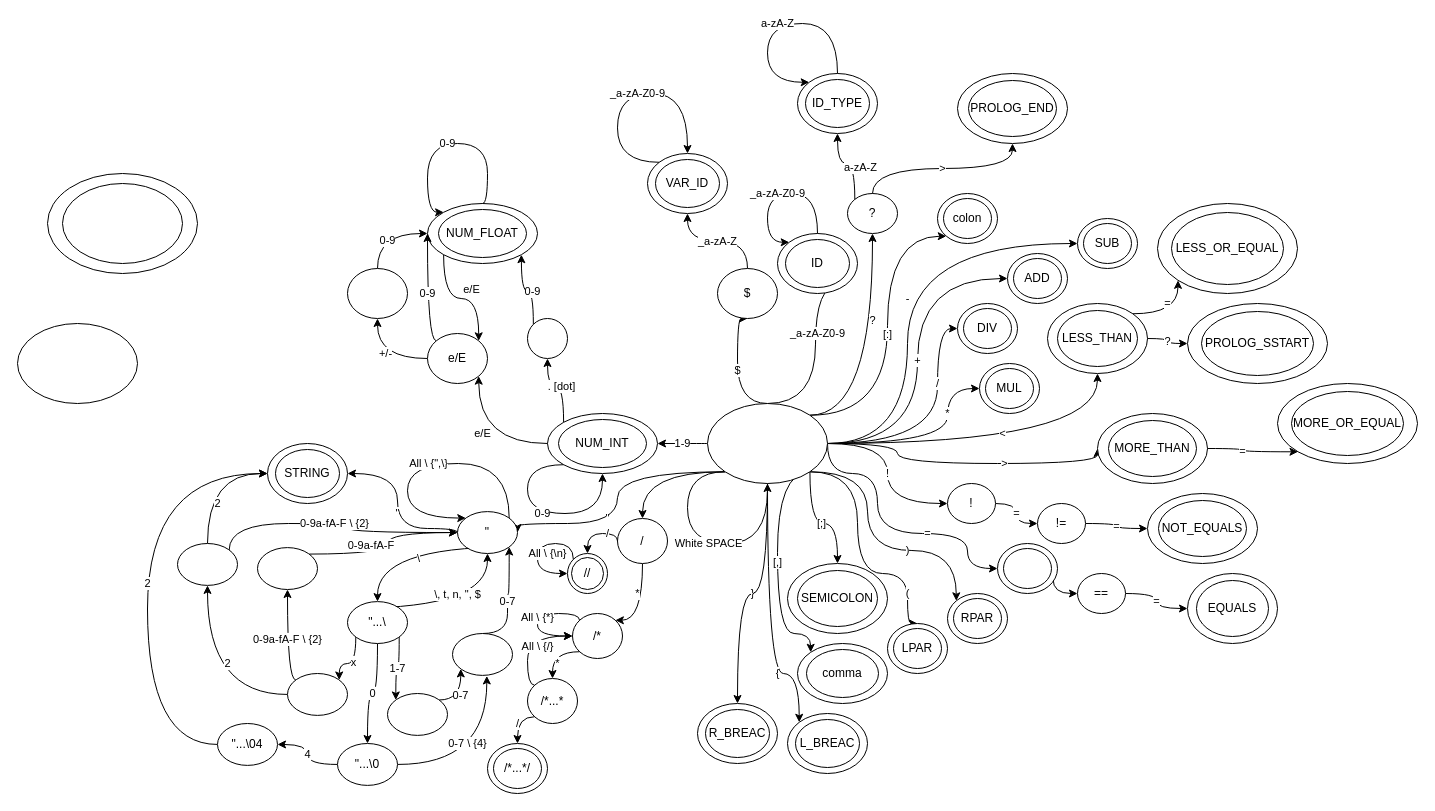
Image size: 1435x811. Some labels were removed from this diagram. The centre of each missing label's shape, as x and y in pixels:
"...\d: point 417,713
"...\dd: point 482,653
"...\x: point 317,693
"...\x2: point 207,563
"...\xd: point 287,568
ASIGN: point 1027,568
e/E+-: point 377,293
NUM.: point 547,338
Start: point 767,443
